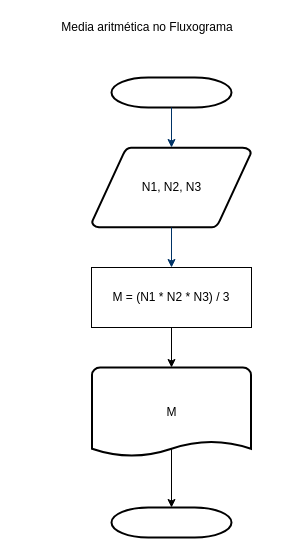
Some shapes in this 294 by 555 pixel diagram are drawn without their labels. The centre of each missing label's shape, as x and y in pixels:
"Fim" goes at (x=171, y=522).
"Inicio" goes at (x=171, y=92).
